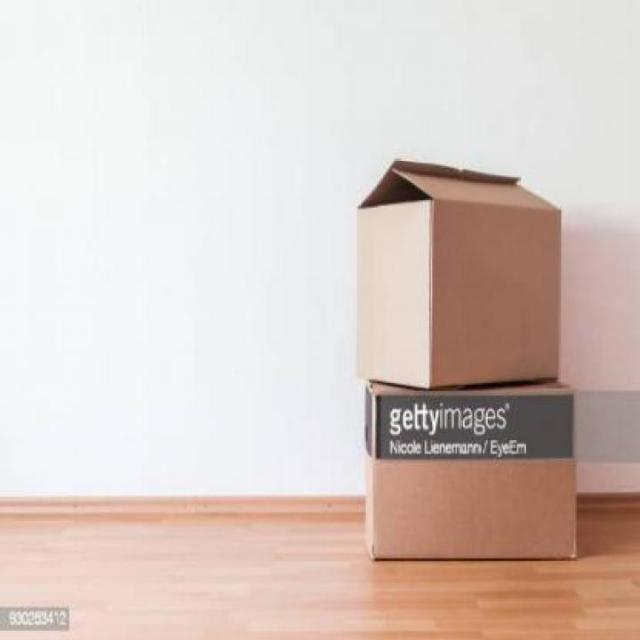box: (343, 132, 577, 410), (360, 366, 596, 586)
